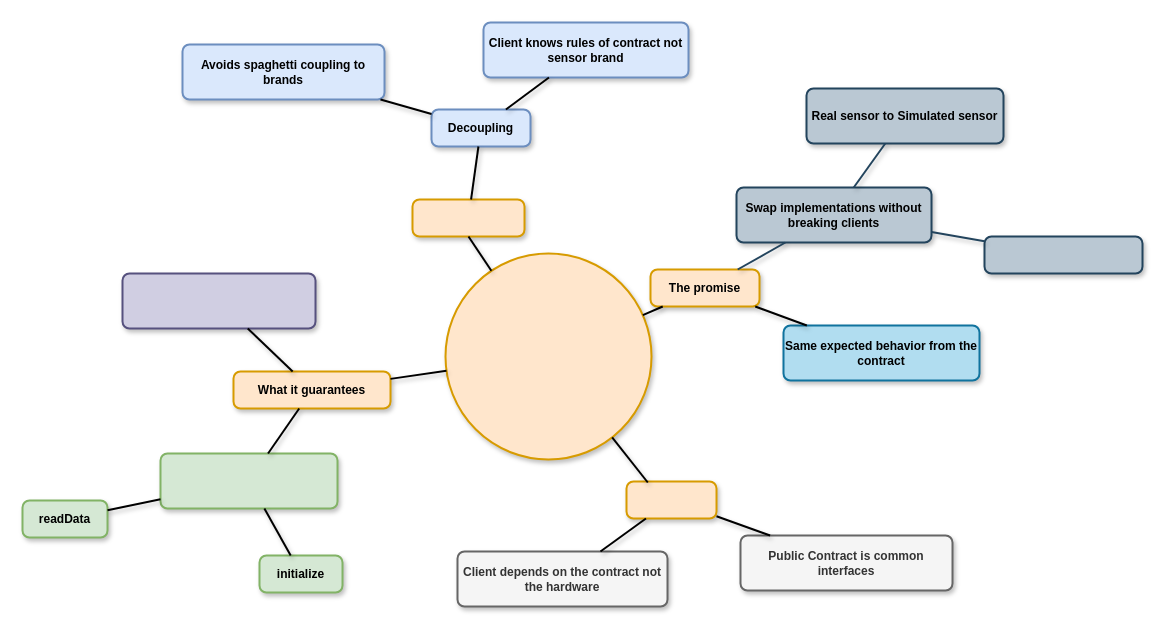
Image size: 1166x631. Some labels were removed from this diagram. Here are the shapes that lost their labels. From the top down, the centre of each, then its label:
the point at 469,219: Why it exists
the point at 1064,256: Velodyne to Ouster
the point at 219,302: Hides internal hardware complexity
the point at 549,357: Abstraction Layer - Public Contract
the point at 249,482: Core functions always available
the point at 672,501: What it is
